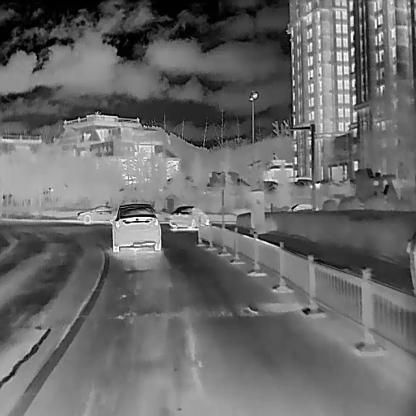car: (111, 202, 161, 252), (168, 204, 210, 230), (77, 204, 117, 223), (286, 202, 318, 214)
